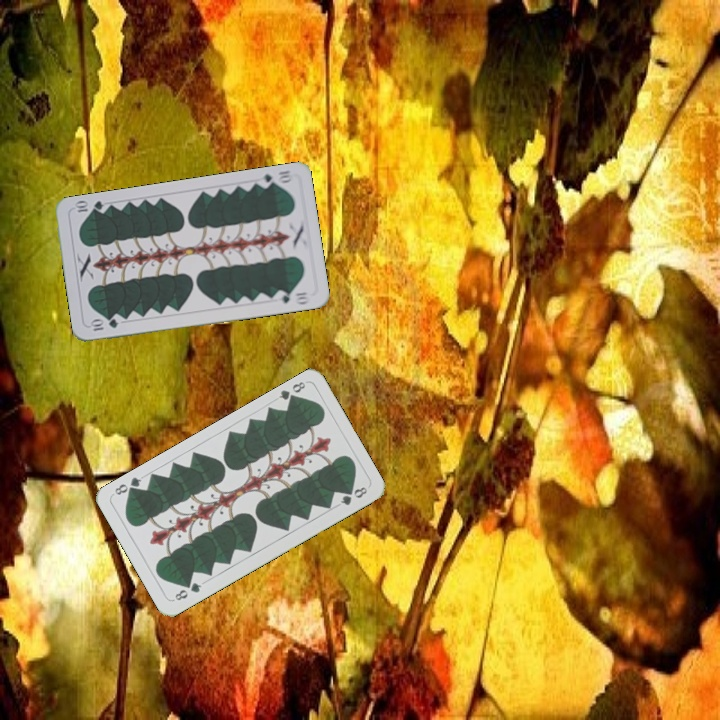G10: (254, 166, 296, 190), (86, 315, 121, 333)
G8: (275, 377, 308, 406), (171, 578, 204, 603)
